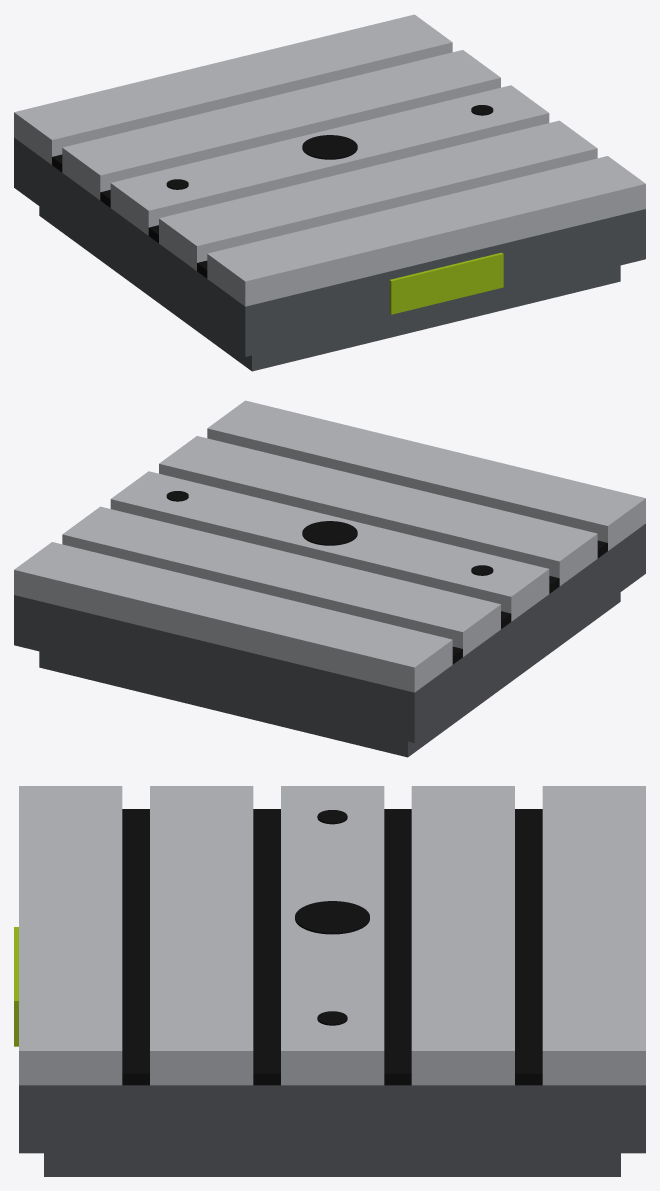
File: pallet_500x500.glb
The picture shows the model from 3 angles, top to bottom: view 1: azimuth 30°, elevation 25°; view 2: azimuth 150°, elevation 25°; view 3: azimuth 270°, elevation 25°; orthographic projection. The views are drawn at different scales.
Visible parts, largest first — view 1: pallet_body__steel, pallet_body__steel_dark, pallet_body__lime, pallet_body__rubber; view 2: pallet_body__steel, pallet_body__steel_dark, pallet_body__rubber; view 3: pallet_body__steel, pallet_body__steel_dark, pallet_body__rubber, pallet_body__lime.
Boxes of the visible parts, x1=… form: pallet_body__steel: x1=14, y1=14, x2=645, y2=306; pallet_body__steel_dark: x1=14, y1=137, x2=645, y2=371; pallet_body__lime: x1=389, y1=252, x2=503, y2=314; pallet_body__rubber: x1=52, y1=105, x2=493, y2=278; pallet_body__steel: x1=14, y1=400, x2=645, y2=692; pallet_body__steel_dark: x1=14, y1=523, x2=645, y2=757; pallet_body__rubber: x1=166, y1=491, x2=607, y2=664; pallet_body__steel: x1=19, y1=786, x2=645, y2=1085; pallet_body__steel_dark: x1=19, y1=1085, x2=645, y2=1176; pallet_body__rubber: x1=122, y1=809, x2=542, y2=1085; pallet_body__lime: x1=14, y1=927, x2=18, y2=1046.
Size of the model in its own units: 0.5 by 0.1215 by 0.504.
